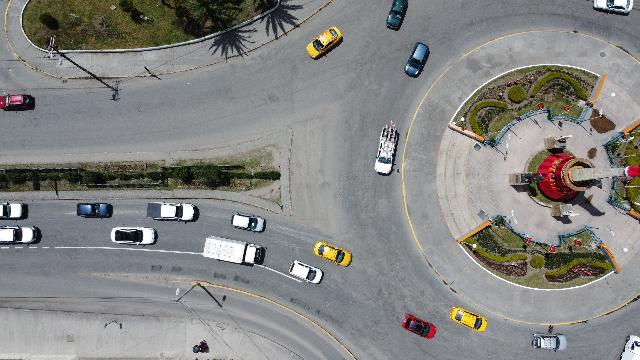Vehiculo: (375, 120, 399, 176), (306, 27, 342, 60), (450, 306, 488, 332), (147, 202, 195, 222), (404, 42, 430, 78), (111, 226, 157, 246), (314, 242, 352, 266), (402, 314, 436, 340), (288, 260, 324, 284), (0, 224, 38, 244), (230, 212, 266, 232), (532, 332, 566, 352), (386, 0, 408, 30), (1, 93, 36, 110), (77, 202, 113, 218), (593, 1, 633, 14), (0, 201, 28, 219), (620, 335, 640, 359)
